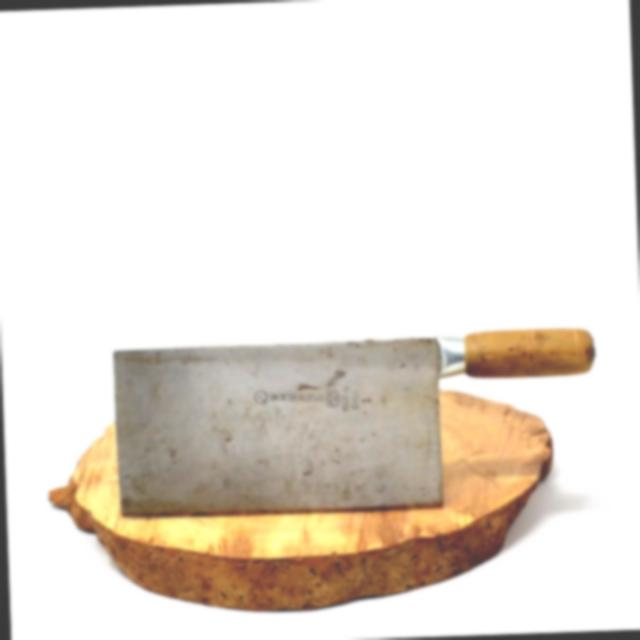cleaver: (112, 322, 596, 518)
